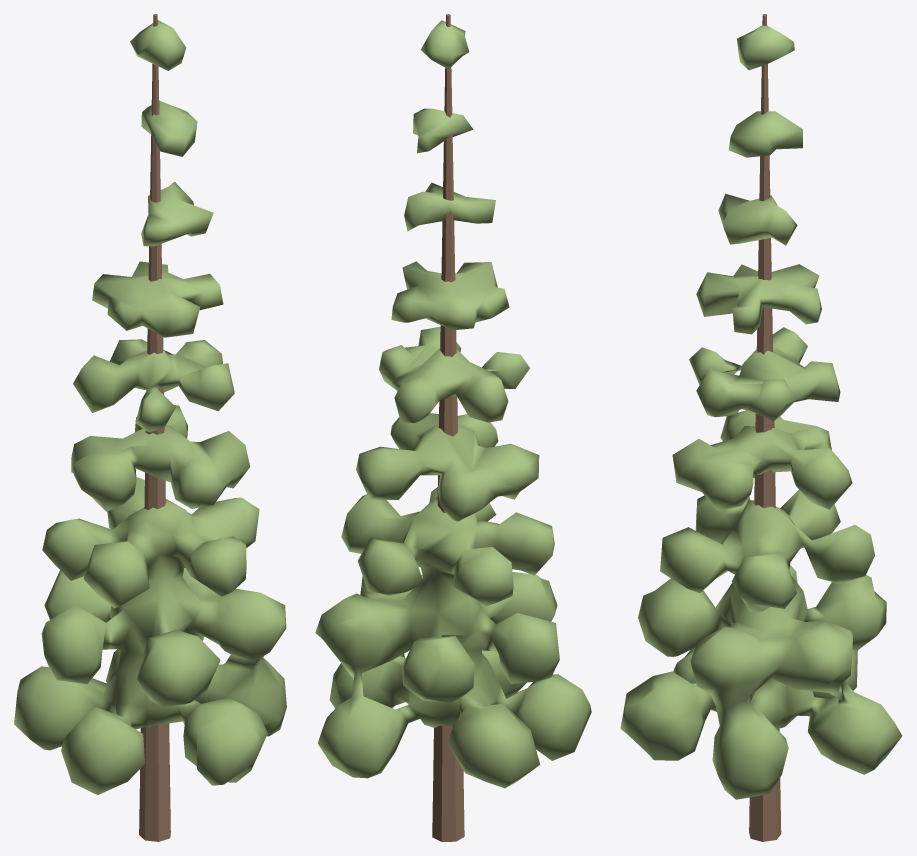
The model's file is tree_larch.glb.
3 renders of one model, left to right at view 1: azimuth 30°, elevation 25°; view 2: azimuth 150°, elevation 25°; view 3: azimuth 270°, elevation 25°, orthographic.
Parts seen in each view (by area): view 1: tree_larch; view 2: tree_larch; view 3: tree_larch.
Boxes of the visible parts, x1,y1,x2,y2 form: tree_larch: (14, 14, 286, 841); tree_larch: (315, 14, 591, 841); tree_larch: (620, 14, 902, 841).
Bounding box in the file's own units: 3.5 × 12 × 3.74.
